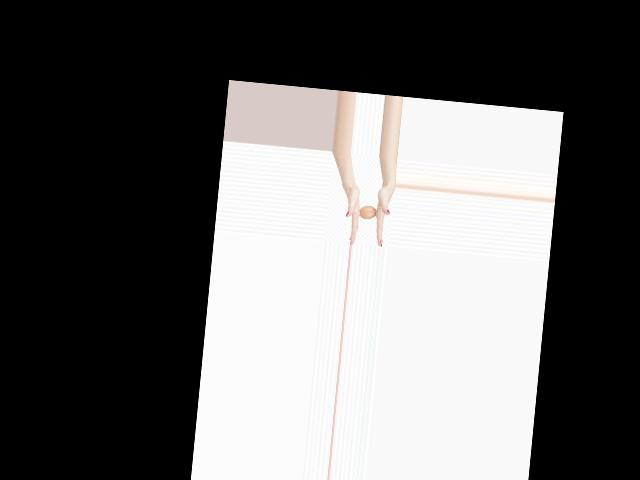egg: (358, 204, 376, 219)
